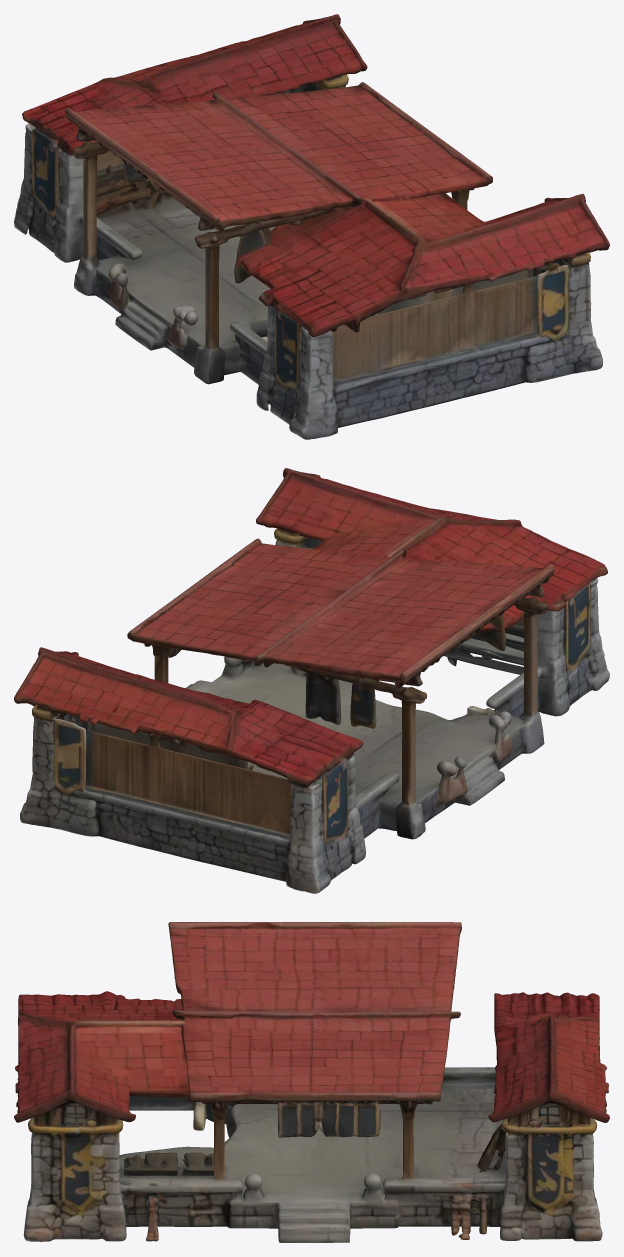
The model's file is barracks.glb.
3 renders of one model, top to bottom at view 1: azimuth 30°, elevation 25°; view 2: azimuth 150°, elevation 25°; view 3: azimuth 270°, elevation 25°, orthographic. The views are drawn at different scales.
Parts seen in each view (by area): view 1: tripo_node_490cd701-167b-4b01-9d7c-6e64094bc208; view 2: tripo_node_490cd701-167b-4b01-9d7c-6e64094bc208; view 3: tripo_node_490cd701-167b-4b01-9d7c-6e64094bc208.
Boxes of the visible parts, x1,y1,x2,y2 form: tripo_node_490cd701-167b-4b01-9d7c-6e64094bc208: [14, 14, 609, 439]; tripo_node_490cd701-167b-4b01-9d7c-6e64094bc208: [14, 468, 609, 893]; tripo_node_490cd701-167b-4b01-9d7c-6e64094bc208: [14, 922, 609, 1242].
Bounding box in the file's own units: 0.6234 × 0.3172 × 0.9998.
1 material, 1 textured.
